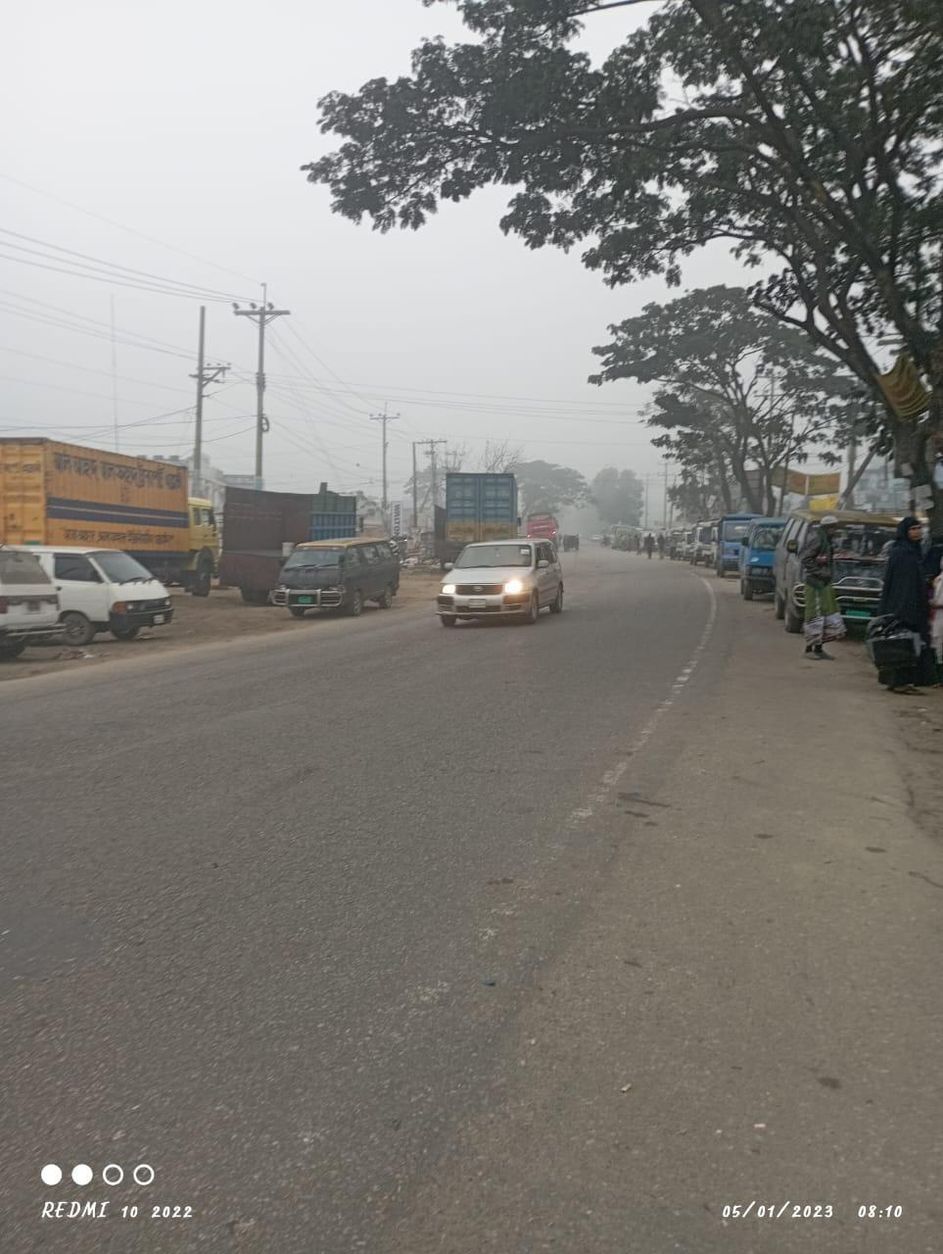Car: (16, 528, 189, 651), (766, 498, 905, 648), (433, 533, 573, 628), (267, 536, 409, 618)
Truck: (4, 427, 225, 597), (419, 461, 521, 564)
